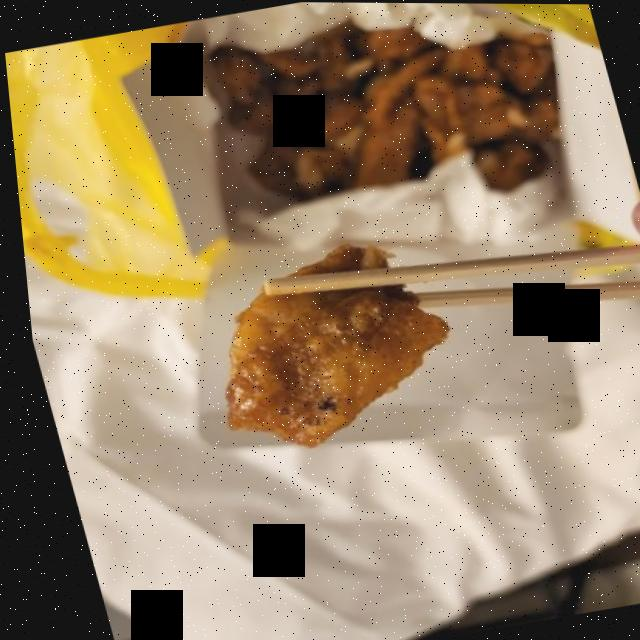Frango: (140, 231, 478, 456)
